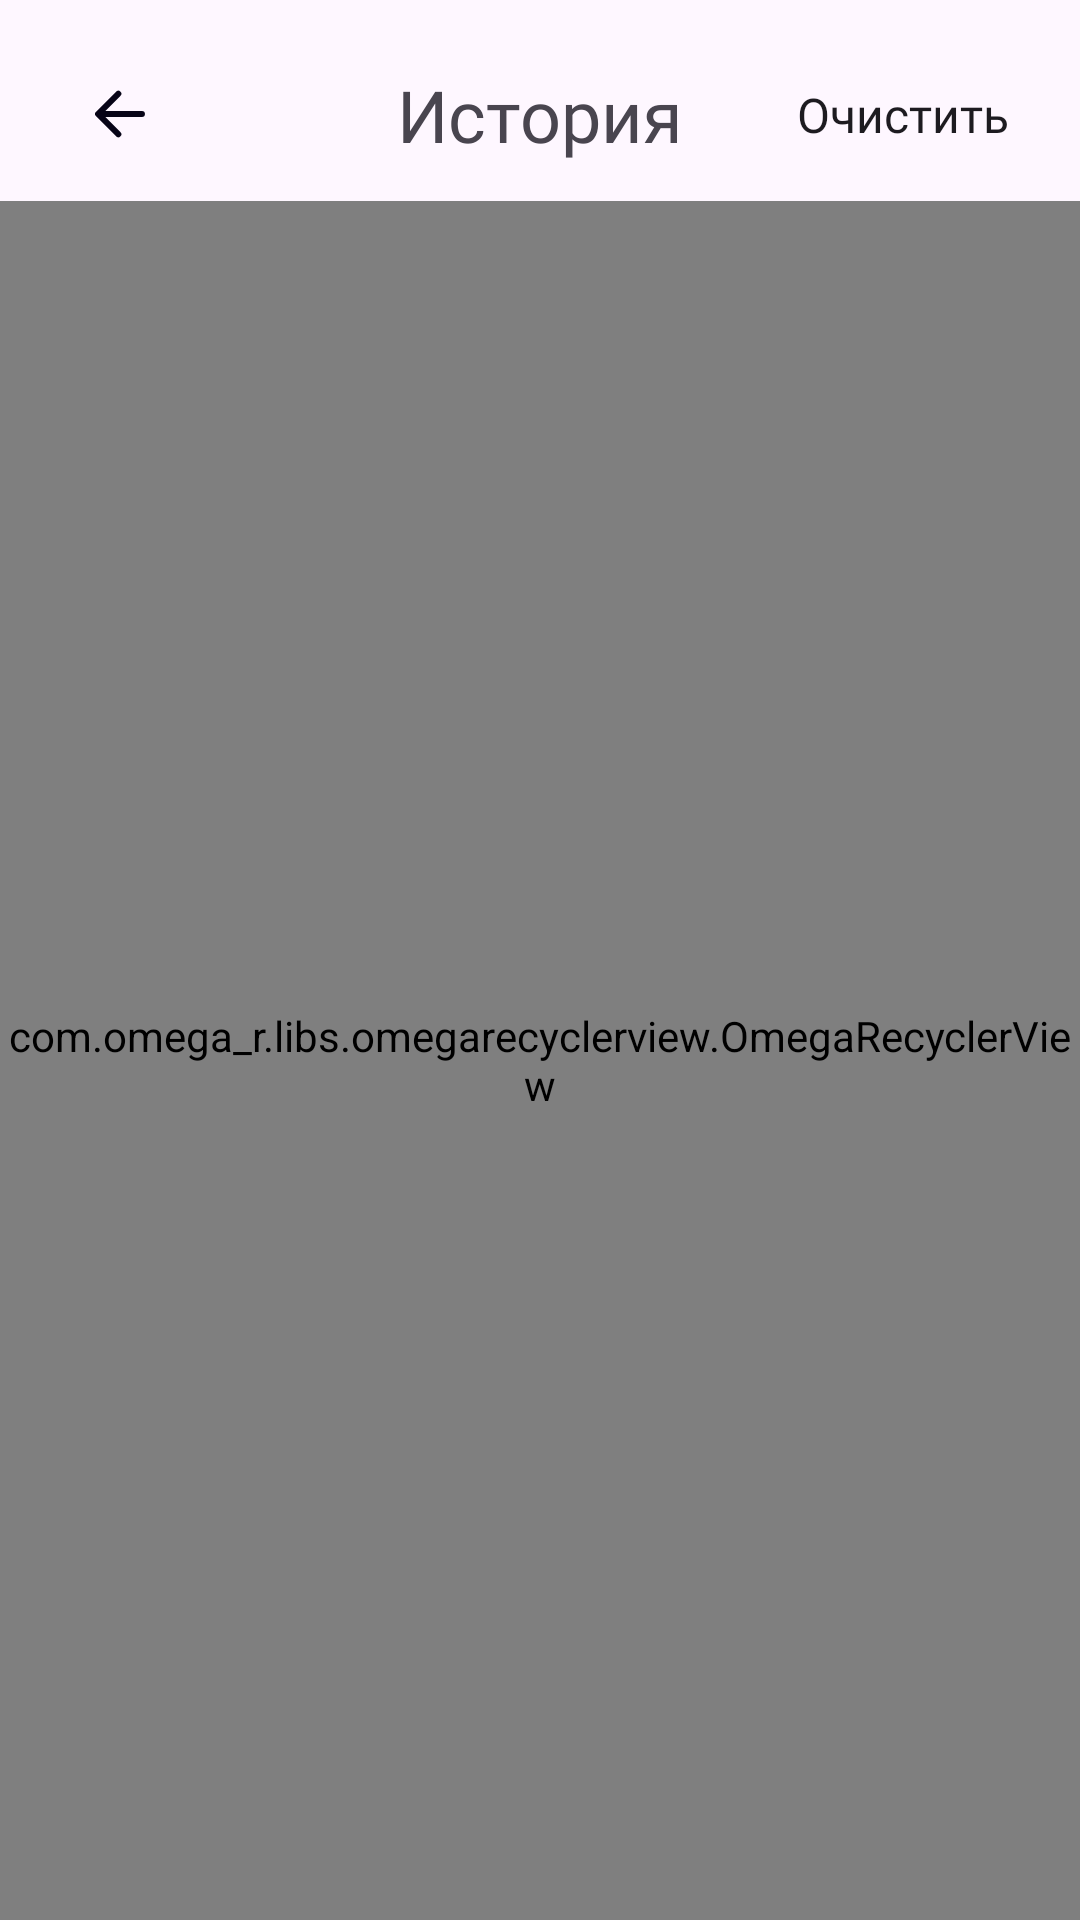

Icon click points for this 1080w x 1920h phone screenshot, format [x,y]:
arrow back: [120,114]
